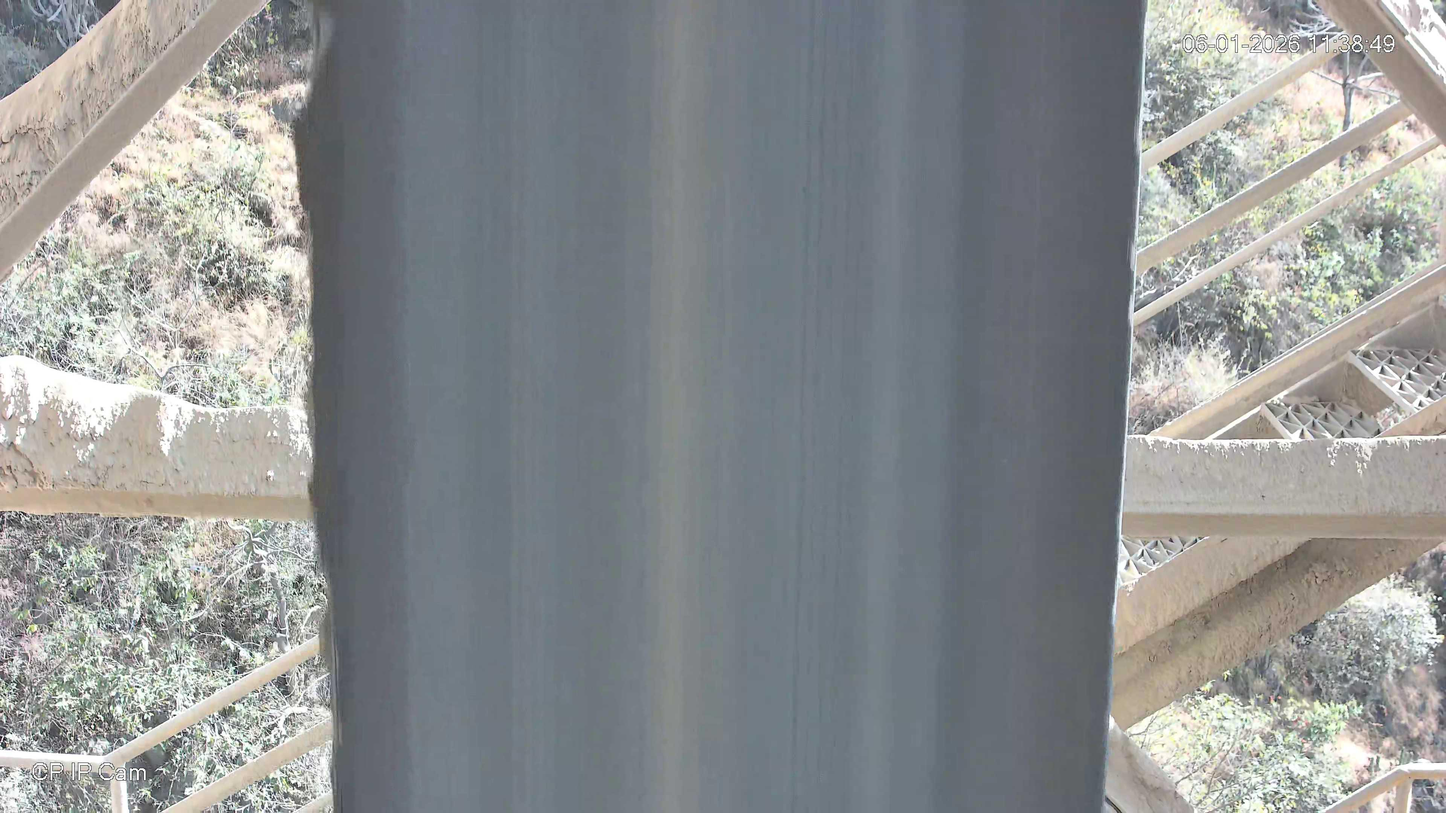belt_roi: (291, 0, 1145, 813)
